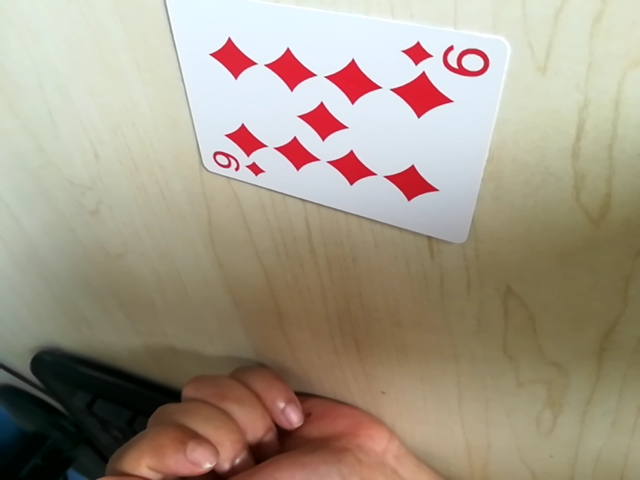fk 9: (400, 35, 496, 79), (207, 146, 269, 184)
